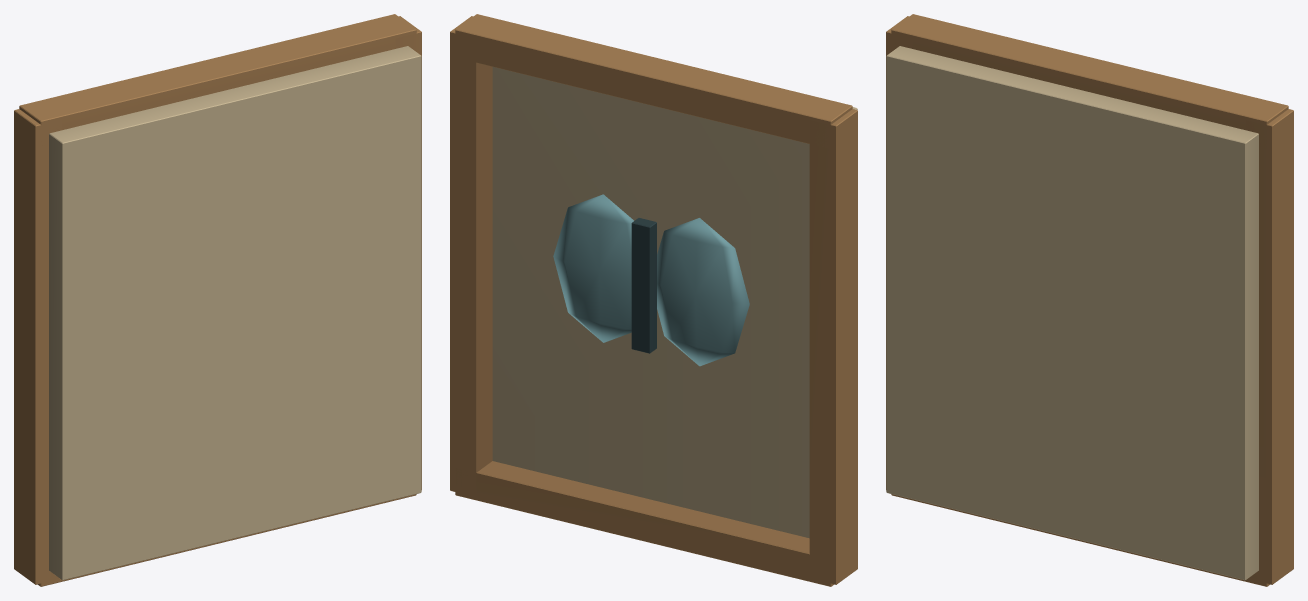
The model's file is museum_frame_low.glb.
The picture shows the model from 3 angles, left to right: view 1: azimuth 30°, elevation 25°; view 2: azimuth 150°, elevation 25°; view 3: azimuth 330°, elevation 25°; orthographic projection.
Bounding box in the file's own units: 0.925 × 1.07 × 0.155.
